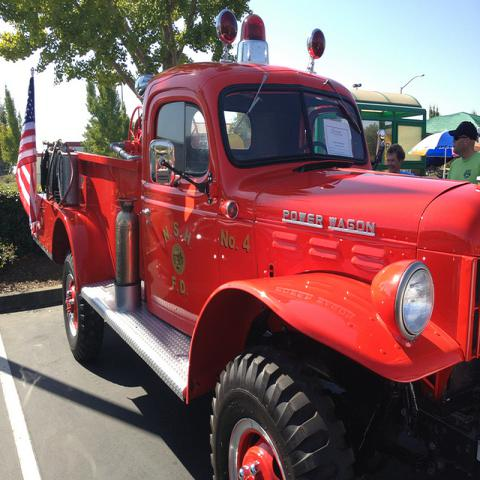car: (32, 12, 480, 476)
truck: (15, 10, 480, 471)
